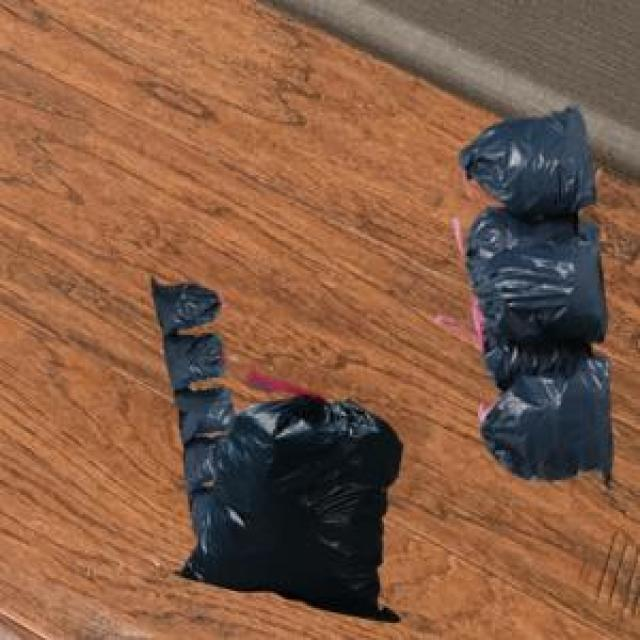Vinyl: (153, 279, 402, 622), (461, 106, 611, 482)
